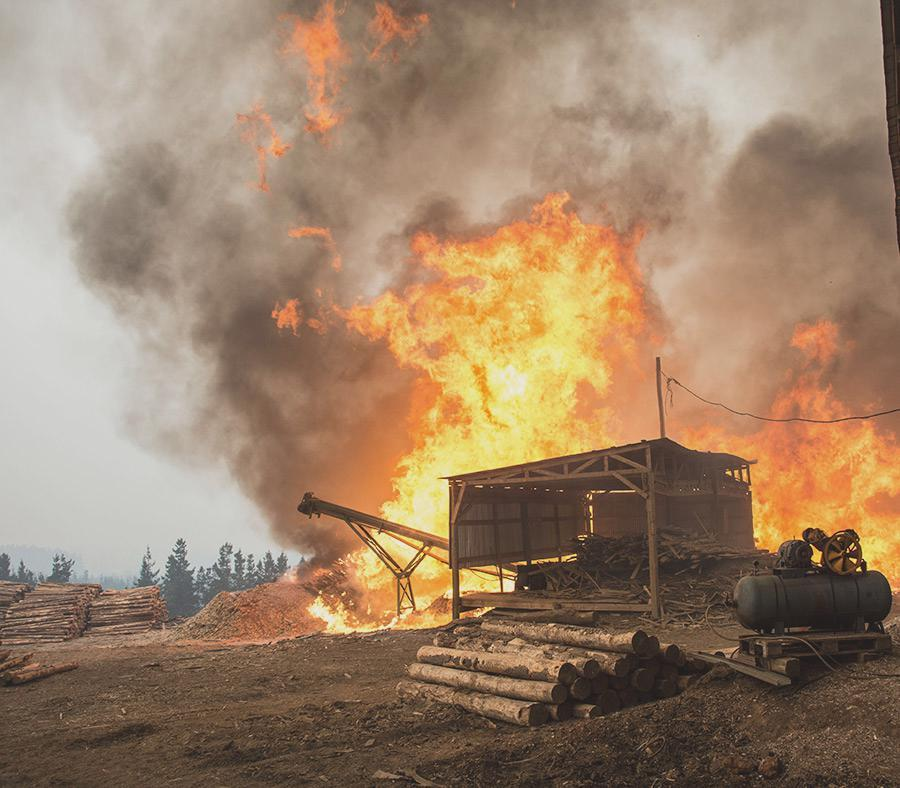Fire: (241, 193, 658, 588), (675, 288, 898, 589), (225, 6, 441, 202), (311, 596, 454, 631)
